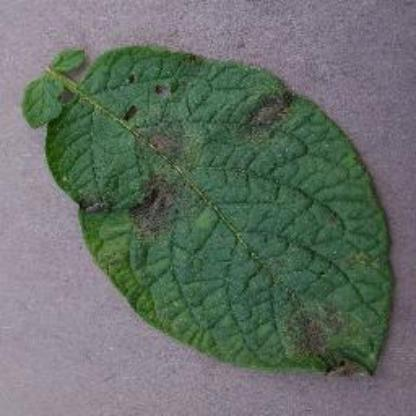Late-Blight: (19, 40, 395, 382)
